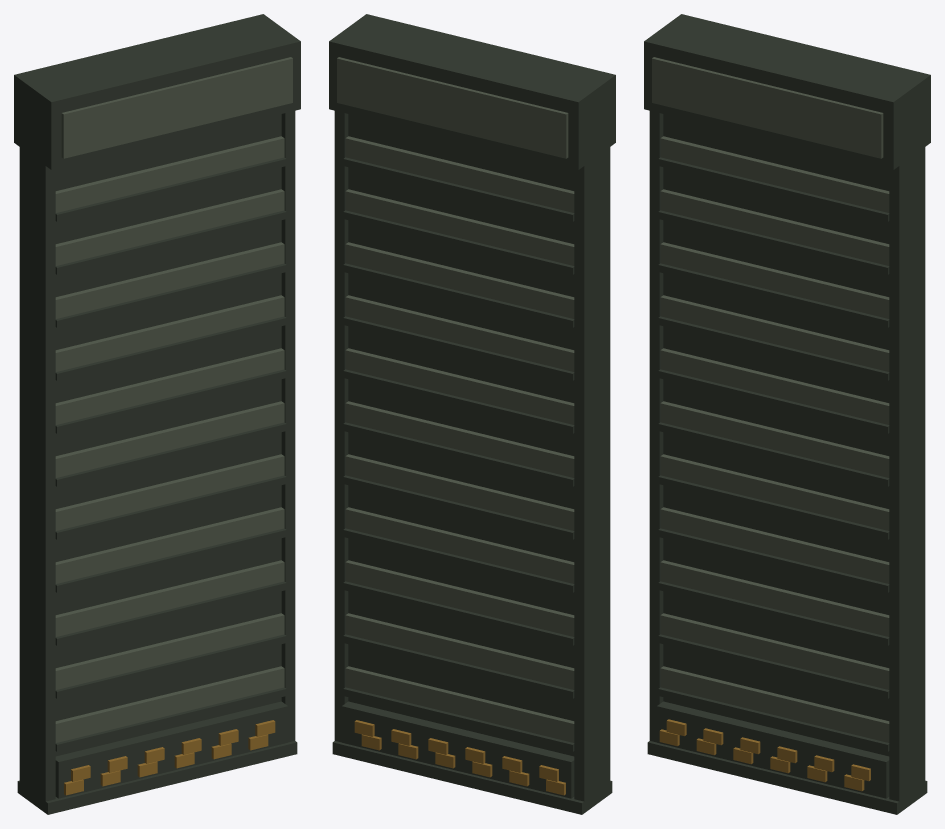
The model's file is CMU3DHybrisaHeavyShutter.glb.
3 views of the same model, side by side, from view 1: azimuth 30°, elevation 25°; view 2: azimuth 150°, elevation 25°; view 3: azimuth 330°, elevation 25° (orthographic).
Visible parts, largest first — view 1: rolling sheet, horizontal shutter slat (×11), shutter guide (×2), lower slat fold (×11), upper roll housing, headbox face, bottom bar, threshold; view 2: rolling sheet, horizontal shutter slat (×11), shutter guide (×2), lower slat fold (×11), upper roll housing, headbox face back, bottom bar, threshold; view 3: rolling sheet, horizontal shutter slat (×11), shutter guide (×2), lower slat fold (×11), upper roll housing, headbox face, bottom bar, threshold.
Boxes of the visible parts, x1,y1,x2,y2 form: rolling sheet: (55, 114, 281, 756); horizontal shutter slat (×11): (55, 136, 284, 742); shutter guide (×2): (19, 103, 295, 812); lower slat fold (×11): (55, 157, 286, 751); upper roll housing: (14, 14, 300, 169); headbox face: (61, 57, 292, 158); bottom bar: (55, 701, 287, 798); threshold: (17, 741, 297, 814); rolling sheet: (348, 114, 574, 756); horizontal shutter slat (×11): (345, 136, 574, 742); shutter guide (×2): (334, 109, 610, 812); lower slat fold (×11): (343, 157, 574, 751); upper roll housing: (329, 14, 615, 169); headbox face back: (337, 57, 568, 158); bottom bar: (342, 701, 574, 798); threshold: (332, 741, 612, 814); rolling sheet: (663, 114, 889, 756); horizontal shutter slat (×11): (660, 136, 889, 742); shutter guide (×2): (649, 106, 925, 812); lower slat fold (×11): (658, 157, 889, 751); upper roll housing: (644, 14, 930, 169); headbox face: (652, 57, 883, 158); bottom bar: (657, 701, 889, 798); threshold: (647, 741, 927, 814).
Size of the model in its own units: 1 by 2.74 by 0.29.
